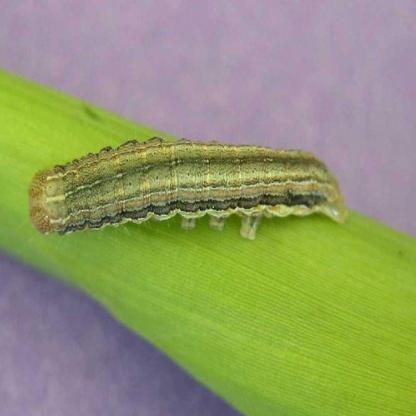armyworm: (20, 127, 356, 243)
